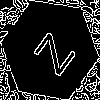Z: (25, 25, 77, 77)
